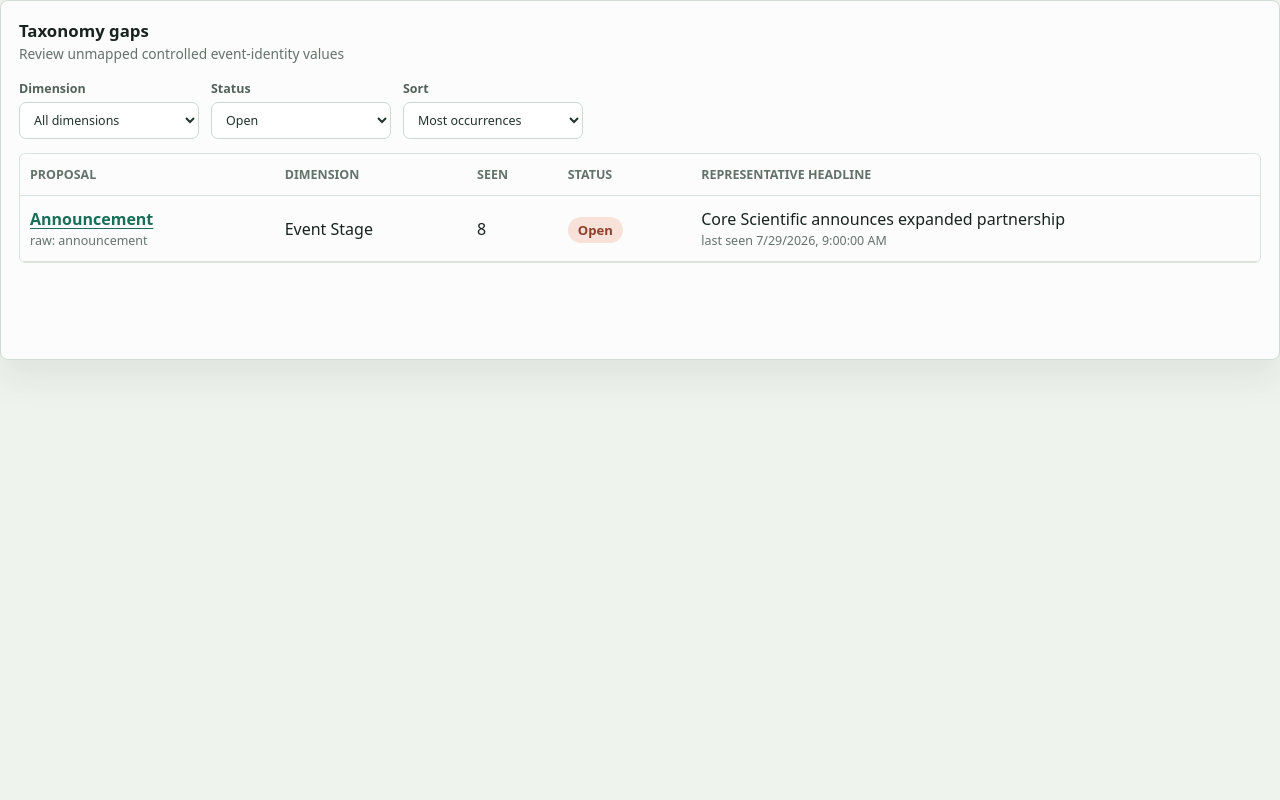
Scenario: TaxonomyGapsPanel › filters, sorts, opens the detail drawer, and returns focus when closed
Expected: the button "Deal Update" is not shown
Expected: the row that starts with "Announcement" shows "8", top-left (477, 218), bottom-right (486, 240)
Select "Rejected" in the dropdown named "Filter taxonomy gaps by status" at (301, 120), box top-left (211, 102), bottom-right (391, 139)
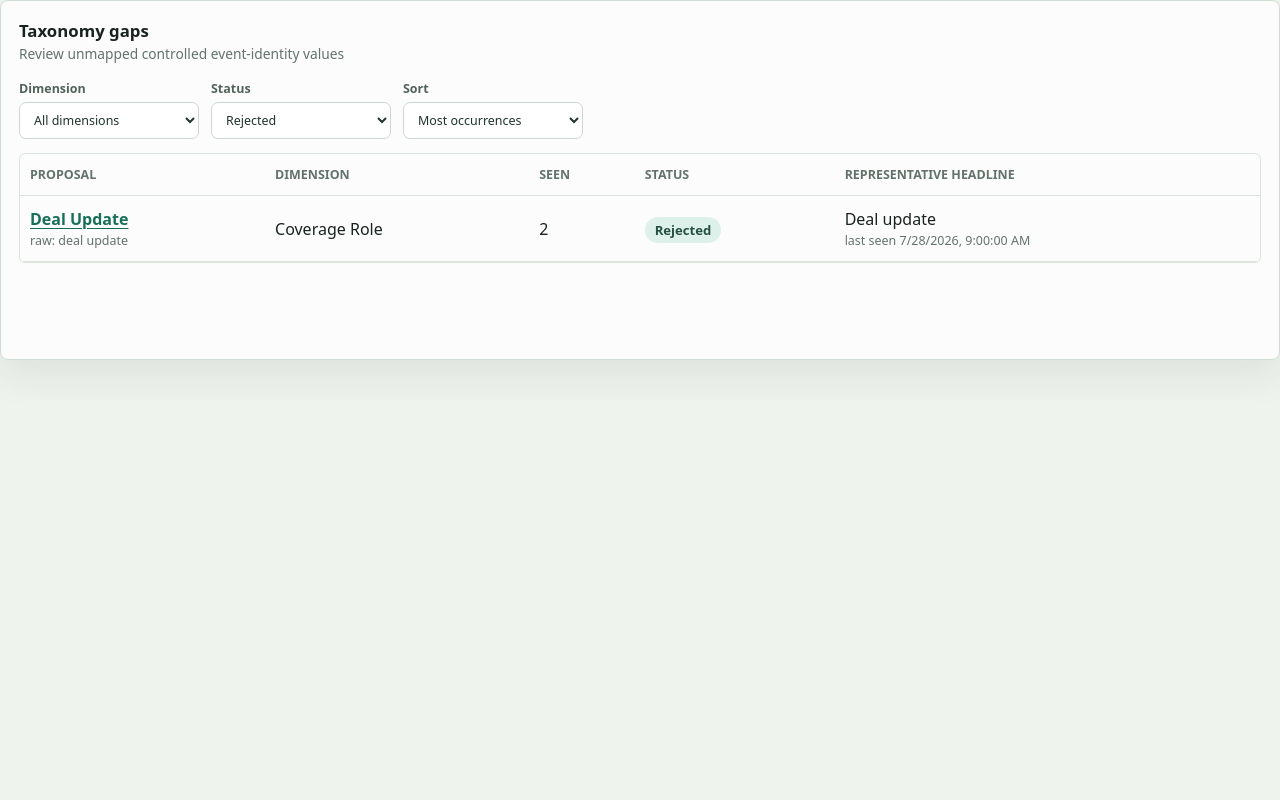
Expected: the button "Announcement" is gone
Expected: the button "Deal Update" is shown, top-left (30, 208), bottom-right (128, 230)
Select "All statuses" in the dropdown named "Filter taxonomy gaps by status" at (301, 120), box top-left (211, 102), bottom-right (391, 139)
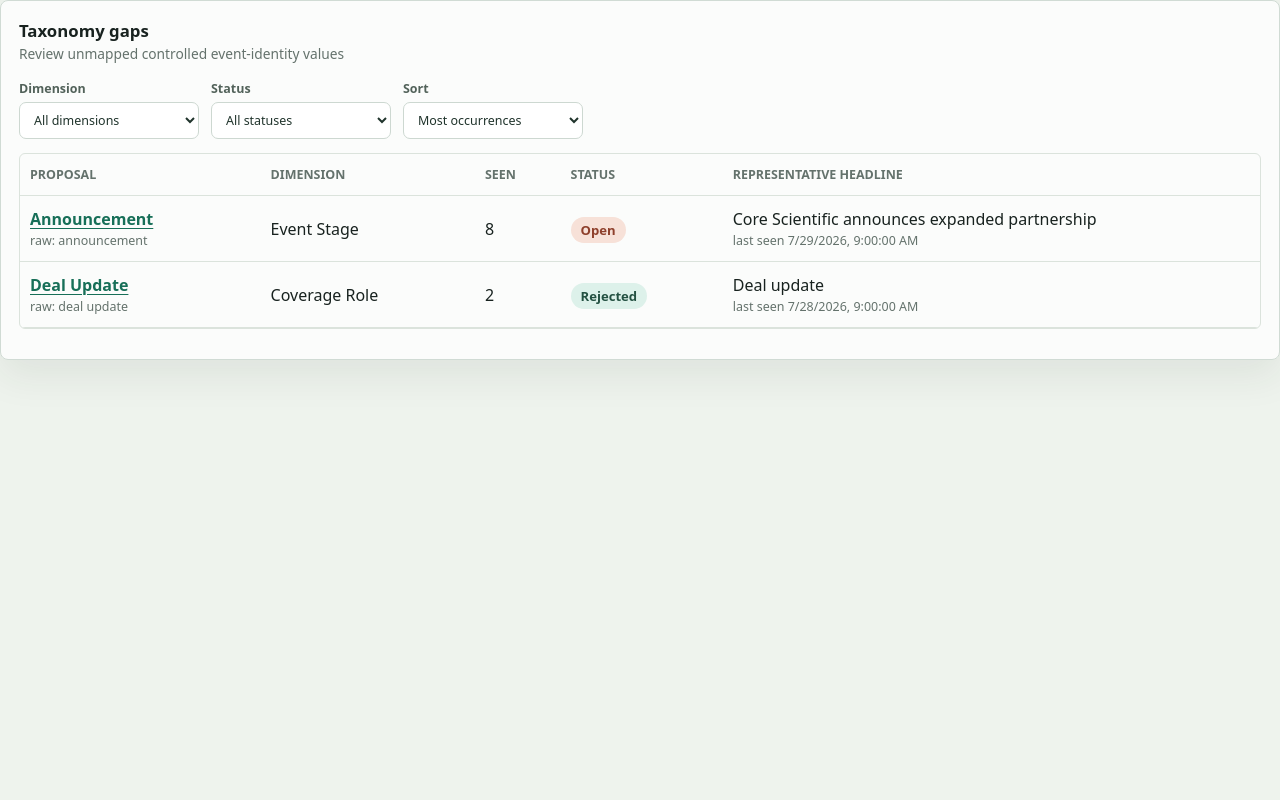
Click the button "Announcement" at (92, 219), box top-left (30, 208), bottom-right (153, 230)
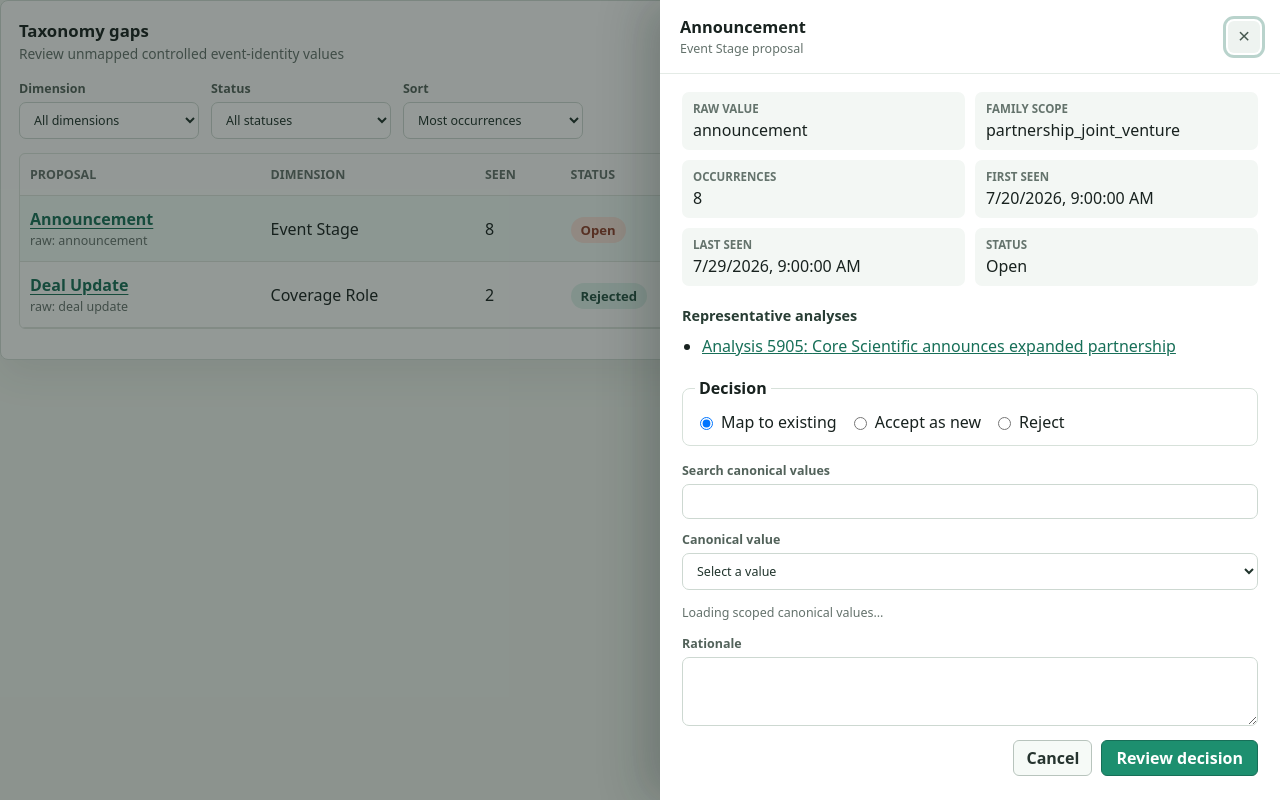
Expected: the text "announcement" is shown, top-left (693, 119), bottom-right (808, 141)
Click the button named "Close taxonomy proposal" at (1244, 36), box top-left (1228, 20), bottom-right (1260, 52)
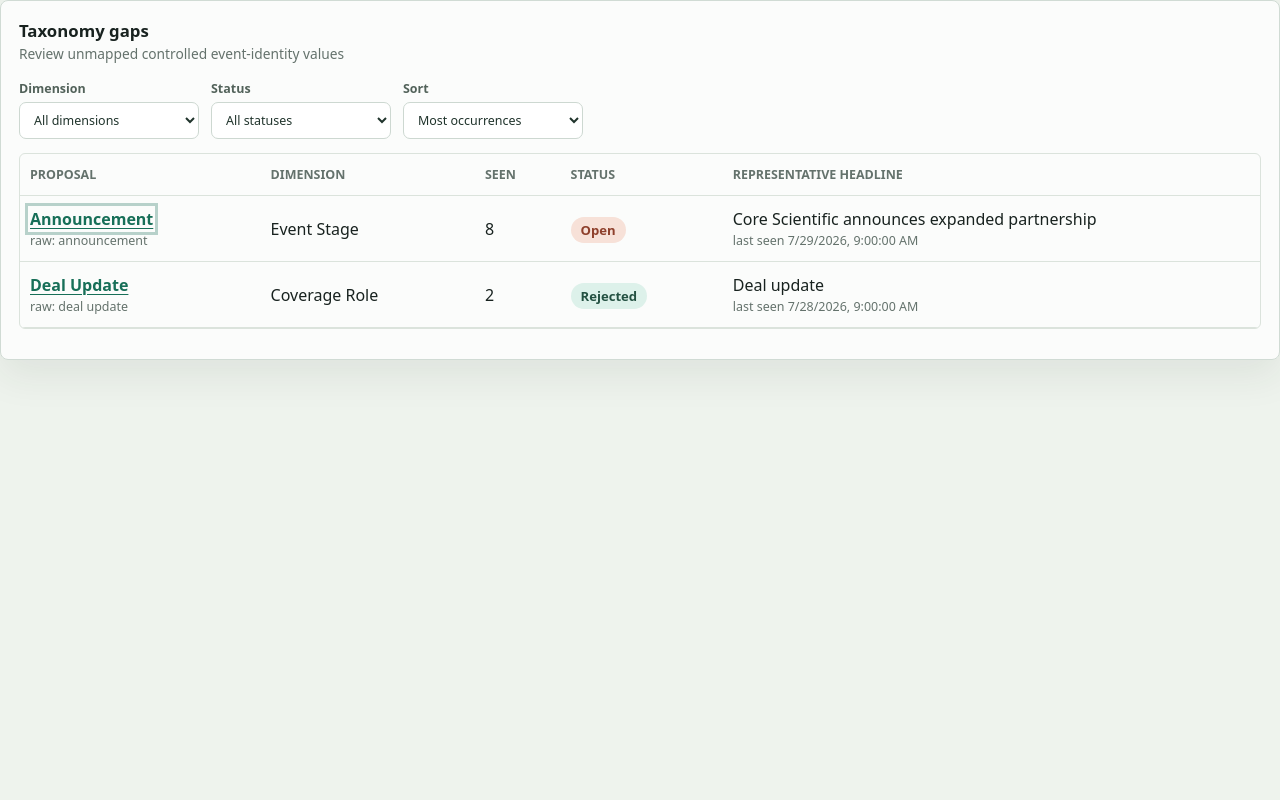
Expected: the button "Announcement" is shown, top-left (30, 208), bottom-right (153, 230)
Expected: the dialog is gone
